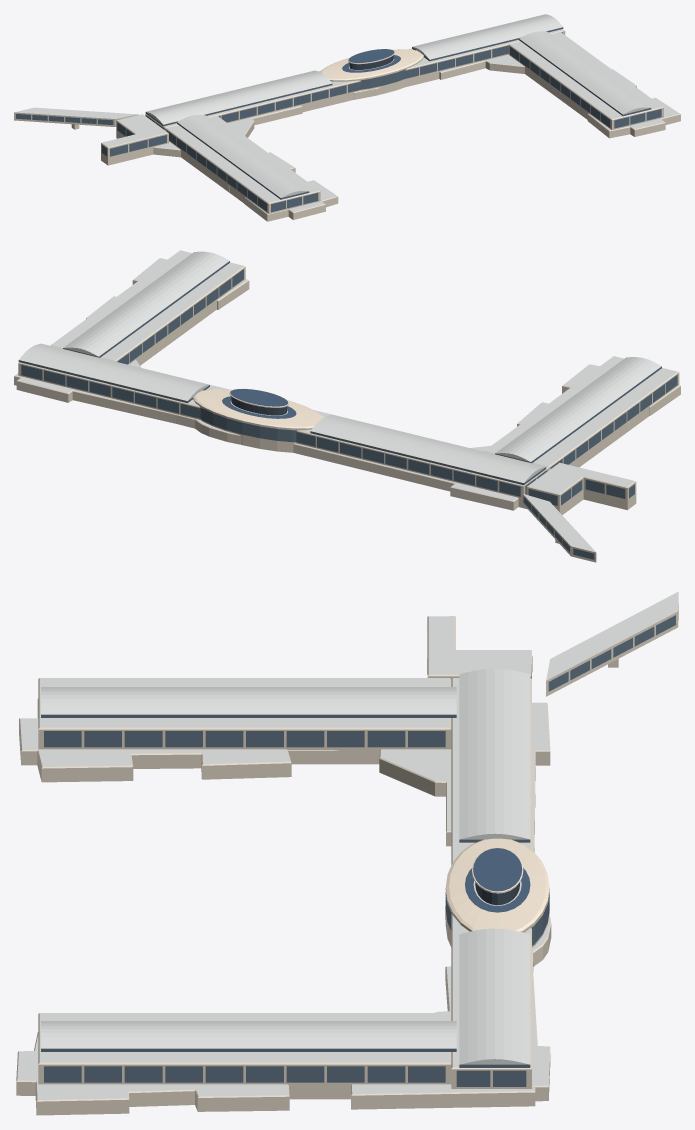
Rendered from hou-iah-terminal-e.glb.
The picture shows the model from 3 angles, top to bottom: view 1: azimuth 30°, elevation 25°; view 2: azimuth 150°, elevation 25°; view 3: azimuth 270°, elevation 25°; orthographic projection. The views are drawn at different scales.
Parts seen in each view (by area): view 1: George Bush Intercontinental Airport Terminal E; view 2: George Bush Intercontinental Airport Terminal E; view 3: George Bush Intercontinental Airport Terminal E.
Boxes of the visible parts, x1,y1,x2,y2 form: George Bush Intercontinental Airport Terminal E: (14,14,680,221); George Bush Intercontinental Airport Terminal E: (14,250,680,562); George Bush Intercontinental Airport Terminal E: (16,591,678,1115).
Bounding box in the file's own units: 428 × 22.7 × 242.
